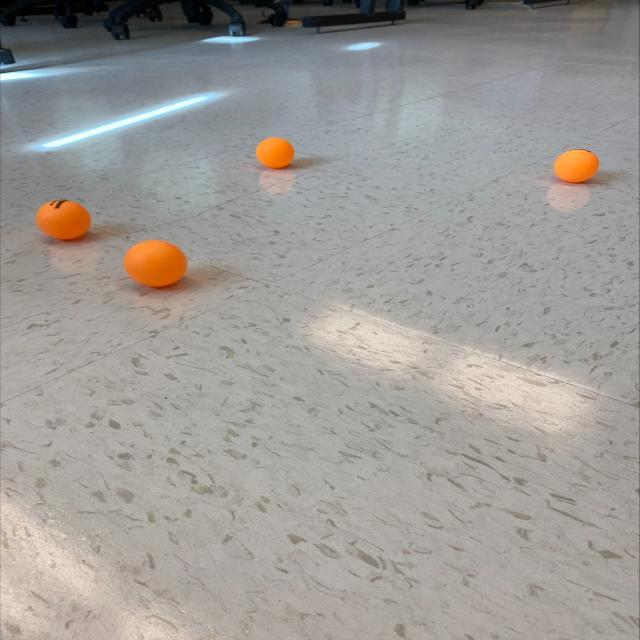ping-pong-ball: (119, 237, 191, 288), (32, 197, 98, 242), (550, 146, 604, 185), (252, 135, 298, 171)
